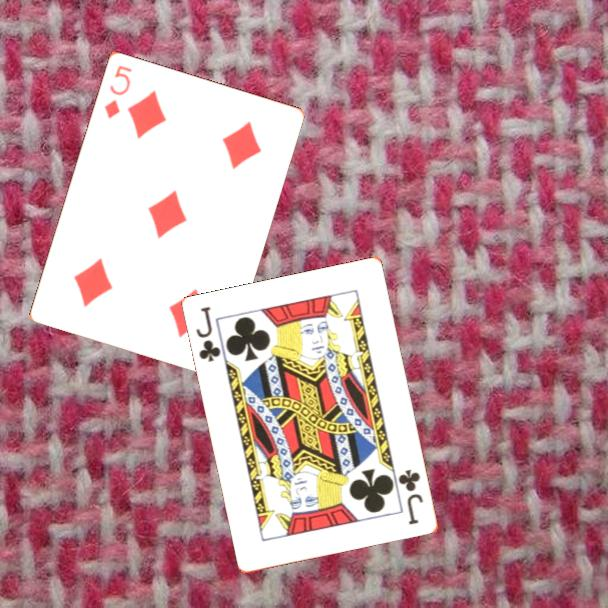c11: (395, 466, 427, 528), (193, 303, 224, 365)
d05: (100, 61, 134, 122)
